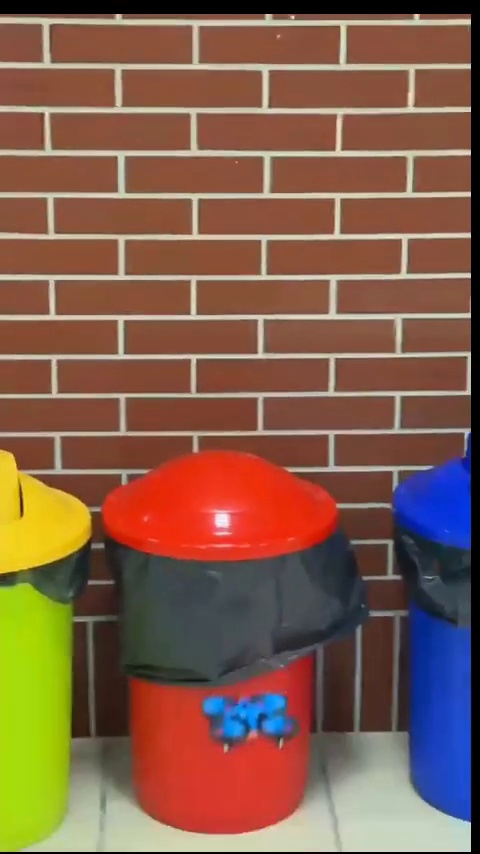drone: (196, 691, 295, 754)
